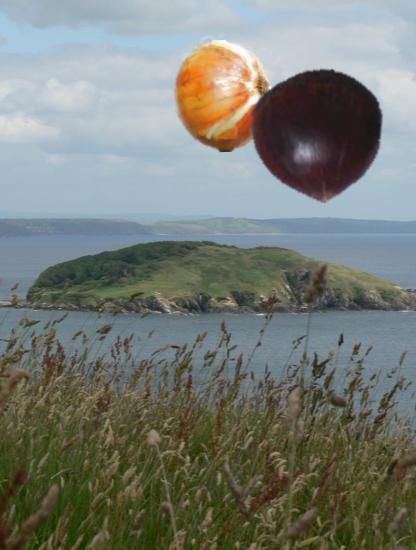Chestnut: (247, 67, 384, 204)
Onion: (168, 40, 280, 152)
